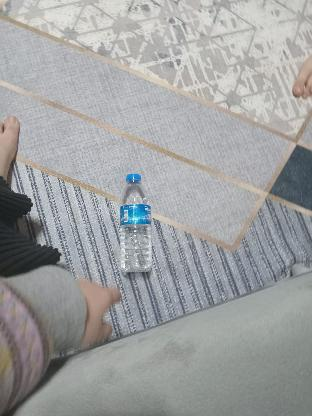Plastic Bottle: (111, 168, 163, 278)
